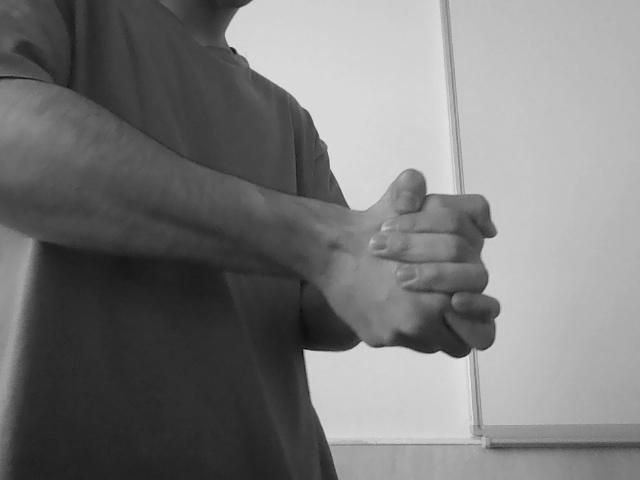friend: (312, 163, 506, 367)
